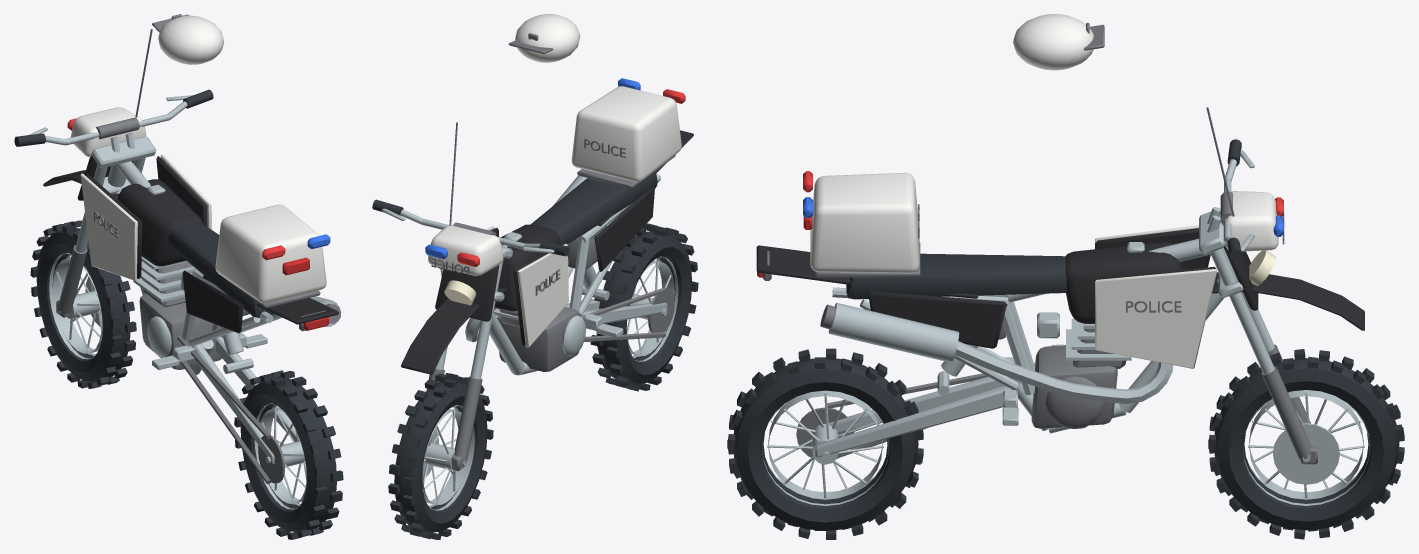
File: PoliceBike.fbx
The picture shows the model from 3 angles, left to right: view 1: azimuth 30°, elevation 25°; view 2: azimuth 150°, elevation 25°; view 3: azimuth 270°, elevation 25°; orthographic projection. The views are drawn at different scales.
Visible parts, largest first — view 1: Body__white, WheelRear__rubber, Body__paint, Body__metal, WheelFront__rubber, Body__engine, Front__metal, WheelFront__metal, Body__rubber, WheelRear__metal, Front__engine, Front__white (+4 smaller); view 2: Body__white, WheelFront__rubber, WheelRear__rubber, Body__metal, Body__engine, Body__paint, Front__paint, Body__rubber, WheelFront__metal, Front__white, Front__engine, Front__metal (+4 smaller); view 3: Body__white, Body__metal, WheelRear__rubber, WheelFront__rubber, Body__paint, Body__engine, Body__rubber, WheelFront__metal, WheelRear__metal, Front__metal, Front__paint, Front__engine (+2 smaller).
Boxes of the visible parts, x1,y1,x2,y2 form: Body__white: [80, 15, 326, 303]; WheelRear__rubber: [234, 370, 343, 539]; Body__paint: [86, 156, 338, 333]; Body__metal: [107, 161, 340, 464]; WheelFront__rubber: [30, 220, 136, 388]; Body__engine: [94, 14, 341, 484]; Front__metal: [28, 95, 193, 313]; WheelFront__metal: [49, 253, 102, 359]; Body__rubber: [168, 222, 274, 317]; WheelRear__metal: [254, 403, 306, 509]; Front__engine: [56, 29, 152, 317]; Front__white: [70, 107, 146, 156]; Body__white: [440, 14, 681, 347]; WheelFront__rubber: [388, 373, 493, 539]; WheelRear__rubber: [590, 223, 698, 391]; Body__metal: [465, 173, 667, 375]; Body__engine: [497, 33, 683, 371]; Body__paint: [490, 130, 693, 345]; Front__paint: [401, 265, 507, 374]; Body__rubber: [530, 172, 657, 244]; WheelFront__metal: [422, 405, 474, 510]; Front__white: [428, 225, 503, 275]; Front__engine: [426, 122, 496, 471]; Front__metal: [381, 208, 554, 465]; Body__white: [810, 14, 1217, 368]; Body__metal: [815, 238, 1234, 459]; WheelRear__rubber: [727, 348, 923, 539]; WheelFront__rubber: [1208, 349, 1404, 539]; Body__paint: [756, 228, 1216, 348]; Body__engine: [763, 22, 1181, 456]; Body__rubber: [846, 253, 1066, 299]; WheelFront__metal: [1243, 390, 1369, 505]; WheelRear__metal: [762, 390, 888, 505]; Front__metal: [1199, 150, 1310, 461]; Front__paint: [1212, 245, 1364, 330]; Front__engine: [1206, 107, 1317, 464].
Size of the model in its own units: 0.9045 by 1.95 by 2.32.
